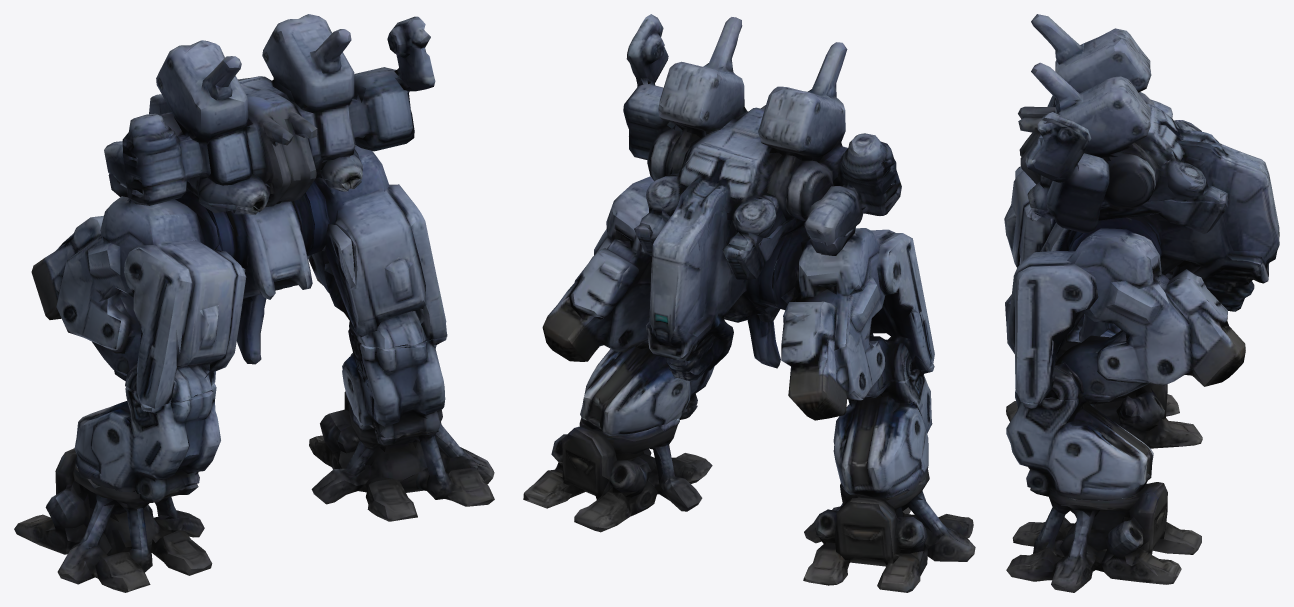
File: light_046748_v2.glb
3 views of the same model, side by side, from view 1: azimuth 30°, elevation 25°; view 2: azimuth 150°, elevation 25°; view 3: azimuth 270°, elevation 25° (orthographic). The views are drawn at different scales.
Visible parts, largest first — view 1: hull, thigh_l, thigh_r, foot_l, foot_r, shin_l, shin_r, pelvis; view 2: hull, thigh_l, foot_r, foot_l, thigh_r, shin_l, shin_r, pelvis; view 3: hull, thigh_r, foot_r, shin_r, foot_l, pelvis, thigh_l, shin_l.
Boxes of the visible parts, x1,y1,x2,y2 form: hull: [104, 14, 435, 364]; thigh_l: [31, 173, 246, 408]; thigh_r: [307, 145, 447, 348]; foot_l: [14, 448, 212, 592]; foot_r: [309, 391, 494, 521]; shin_l: [74, 370, 220, 499]; shin_r: [342, 329, 447, 437]; pelvis: [186, 174, 355, 288]; hull: [623, 14, 901, 381]; thigh_l: [736, 218, 934, 420]; foot_r: [523, 405, 712, 532]; foot_l: [803, 470, 975, 592]; thigh_r: [542, 176, 653, 361]; shin_l: [833, 364, 934, 497]; shin_r: [580, 339, 714, 435]; pelvis: [634, 225, 795, 308]; hull: [1018, 14, 1279, 342]; thigh_r: [1005, 204, 1245, 404]; foot_r: [1006, 482, 1201, 592]; shin_r: [1006, 390, 1153, 500]; foot_l: [1006, 383, 1202, 448]; pelvis: [1031, 194, 1227, 258]; thigh_l: [1004, 166, 1173, 279]; shin_l: [1067, 312, 1121, 342].
Bounding box in the file's own units: 2.91 × 3.19 × 1.74.
1 material, 1 textured.
